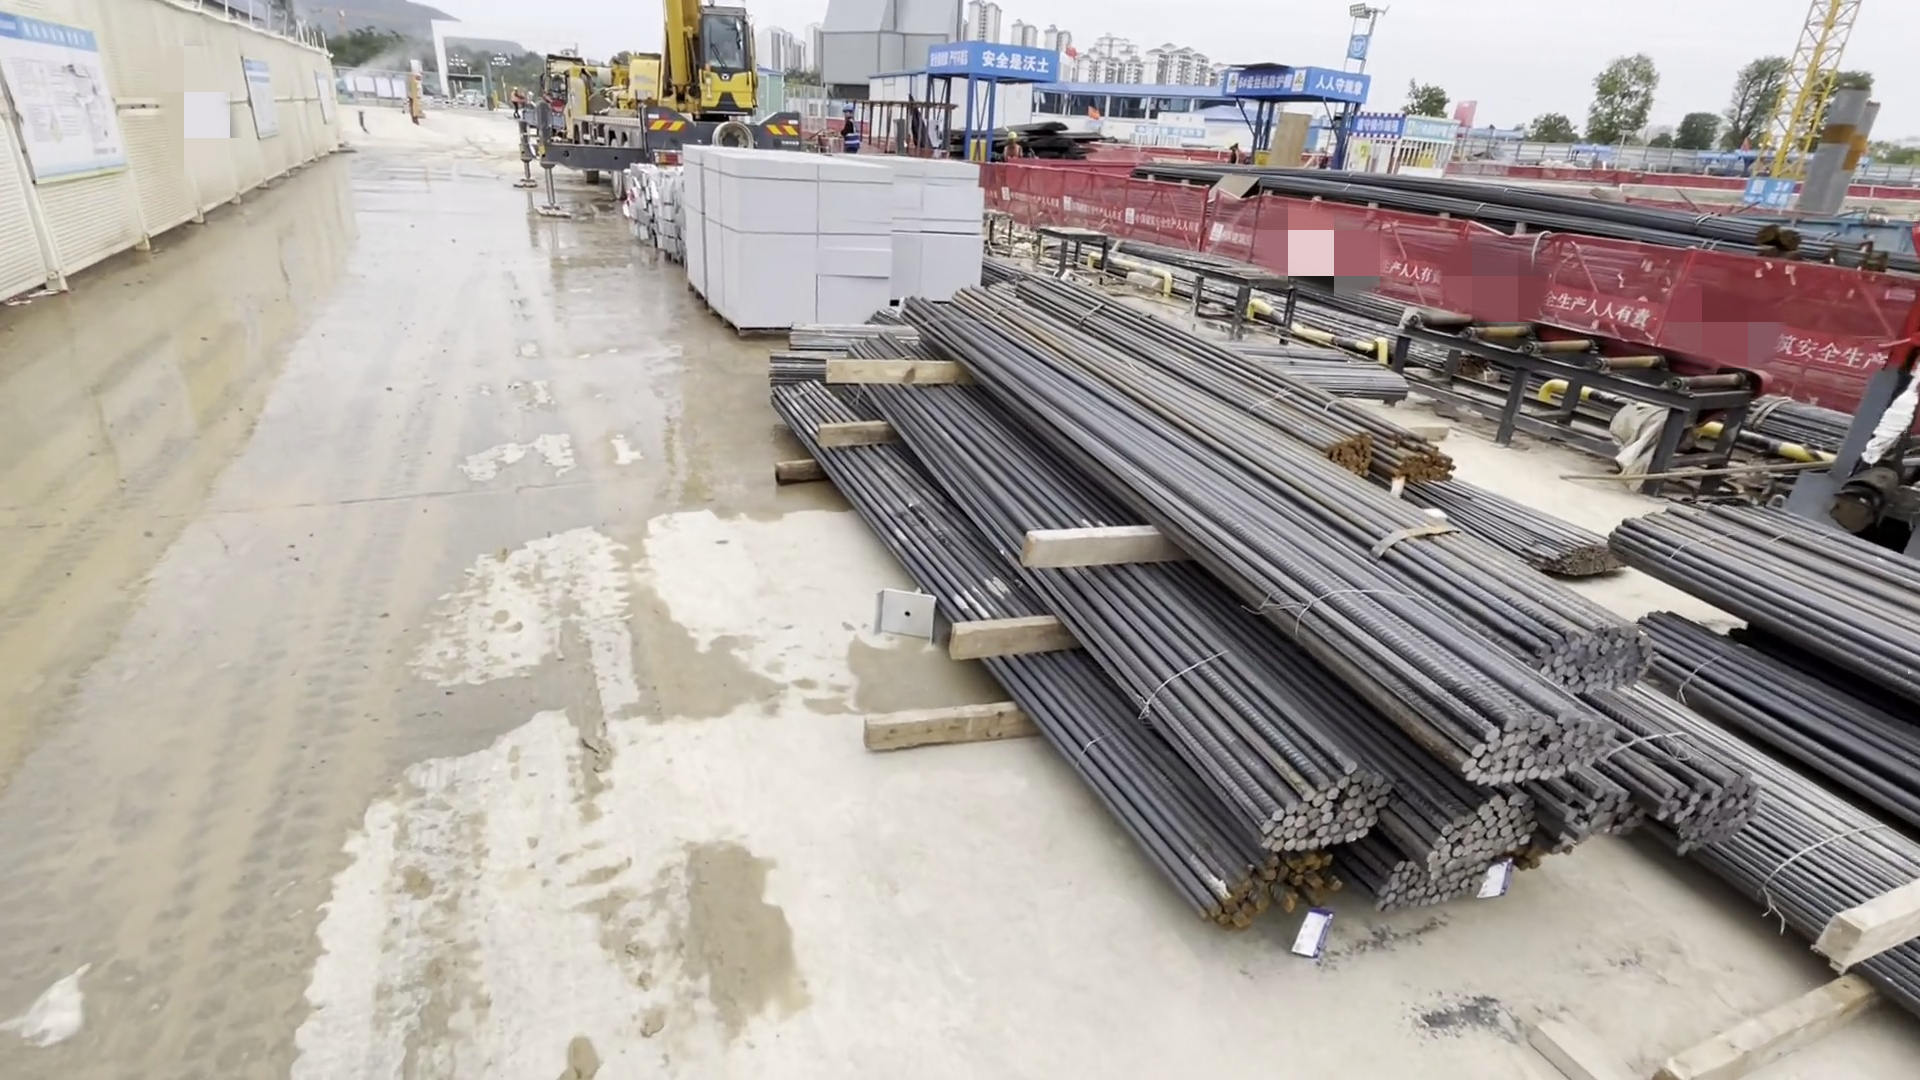brick: (673, 138, 986, 340)
fence: (986, 135, 1838, 414)
rebar: (758, 268, 1693, 940)
slogan: (1212, 69, 1365, 105), (934, 46, 1054, 88)
